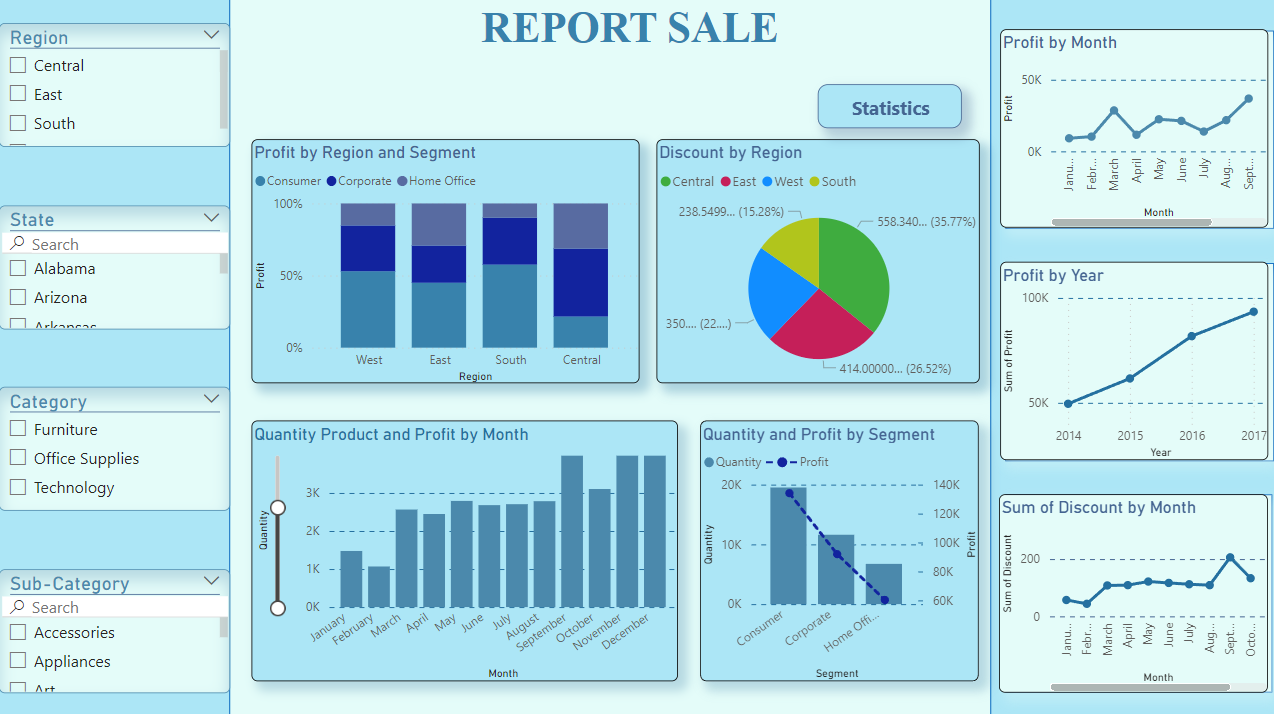

This screenshot's page, from the dashboard's own definition file:
{"tool":"powerbi","page":{"name":"Overview","canvas":[1280,720],"ordinal":0},"visuals":[{"type":"shape","box":[0,0,231.4,720],"z":0},{"type":"shape","box":[991.4,0,288.5,720],"z":1000},{"type":"shape","box":[1005.7,32.3,268.6,198.6],"z":2000},{"type":"shape","box":[1005.7,264.4,268.6,198.6],"z":3000},{"type":"shape","box":[1006.2,496.2,267.5,198.8],"z":4000},{"type":"slicer","fields":{"Values":["superstore.Region"]},"box":[0,25,231.2,123.8],"z":5000},{"type":"slicer","fields":{"Values":["superstore.State"]},"box":[0,207.1,231.2,123.8],"z":6000},{"type":"slicer","fields":{"Values":["superstore.Category"]},"box":[0,389.2,231.2,123.8],"z":7000},{"type":"slicer","fields":{"Values":["superstore.Sub-Category"]},"box":[0,571.2,231.2,123.8],"z":8000},{"type":"columnChart","title":"Quantity Product and Profit by Month","fields":{"Category":["superstore.Order Date.Variation.Date Hierarchy.Month"],"Y":["Sum(superstore.Quantity)"]},"box":[252.5,422.6,426.8,260.7],"z":9000},{"type":"lineClusteredColumnComboChart","fields":{"Category":["superstore.Segment"],"Y":["Sum(superstore.Quantity)"],"Y2":["Sum(superstore.Profit)"]},"box":[701.2,422.6,278.6,260.7],"z":10000},{"type":"hundredPercentStackedColumnChart","fields":{"Series":["superstore.Segment"],"Y":["Sum(superstore.Profit)"],"Category":["superstore.Region"]},"box":[252.5,141.3,388.3,244.3],"z":11000},{"type":"lineChart","fields":{"Y":["Sum(superstore.Profit)"],"Category":["superstore.Order Date.Variation.Date Hierarchy.Month"]},"box":[1001.2,31.8,267.7,198],"z":12000},{"type":"lineChart","title":"Profit by Year","fields":{"Category":["superstore.Order Date.Variation.Date Hierarchy.Year"],"Y":["Sum(superstore.Profit)"]},"box":[1001.2,264,267.7,198],"z":13000},{"type":"pieChart","fields":{"Y":["Sum(superstore.Discount)"],"Category":["superstore.Region"]},"box":[657,141,323,244],"z":14000},{"type":"lineChart","fields":{"Category":["superstore.Order Date.Variation.Date Hierarchy.Month"],"Y":["Sum(superstore.Discount)"]},"box":[999.9,496.3,268.9,198],"z":15000},{"type":"textbox","box":[466.2,0,328.8,62.5],"z":16000},{"type":"actionButton","box":[819,86.8,144.2,44],"z":17000}]}

Visuals, with their boxes in screenshot pixels (x1, y1, x2, y2), scaled from the page's 1280x720 canvas onto the 1274x714 screenshot:
shape: crop(0, 0, 230, 713)
shape: crop(987, 0, 1273, 713)
shape: crop(1001, 32, 1268, 229)
shape: crop(1001, 262, 1268, 459)
shape: crop(1001, 492, 1268, 689)
slicer - superstore.Region: crop(0, 25, 230, 148)
slicer - superstore.State: crop(0, 205, 230, 328)
slicer - superstore.Category: crop(0, 386, 230, 509)
slicer - superstore.Sub-Category: crop(0, 566, 230, 689)
"Quantity Product and Profit by Month" columnChart: crop(251, 419, 676, 678)
lineClusteredColumnComboChart - superstore.Segment x Sum(superstore.Quantity): crop(698, 419, 975, 678)
hundredPercentStackedColumnChart - superstore.Segment x Sum(superstore.Profit): crop(251, 140, 638, 382)
lineChart - Sum(superstore.Profit) x superstore.Order Date.Variation.Date Hierarchy.Month: crop(997, 32, 1263, 228)
"Profit by Year" lineChart: crop(997, 262, 1263, 458)
pieChart - Sum(superstore.Discount) x superstore.Region: crop(654, 140, 975, 382)
lineChart - superstore.Order Date.Variation.Date Hierarchy.Month x Sum(superstore.Discount): crop(995, 492, 1263, 689)
textbox: crop(464, 0, 791, 62)
actionButton: crop(815, 86, 959, 130)
